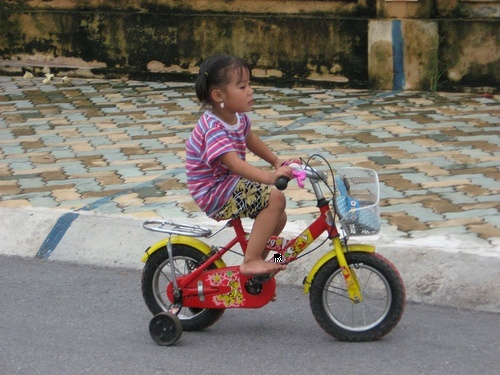car: (141, 160, 407, 348)
person: (184, 54, 296, 278)
person/foot: (239, 260, 288, 274)
person/hand: (267, 166, 293, 186), (273, 159, 289, 169)
person/head: (199, 54, 253, 112)
